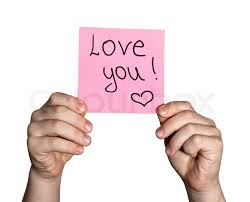hand: (153, 96, 226, 191), (14, 88, 86, 177)
